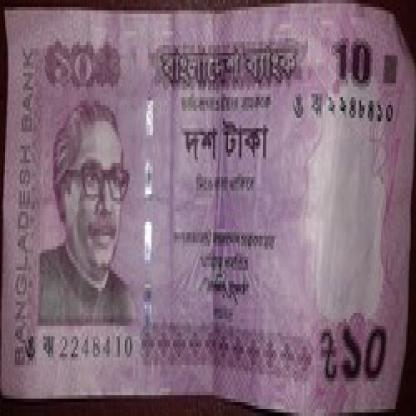Ten Taka: (338, 312, 396, 381), (45, 31, 105, 97), (329, 24, 378, 90)
